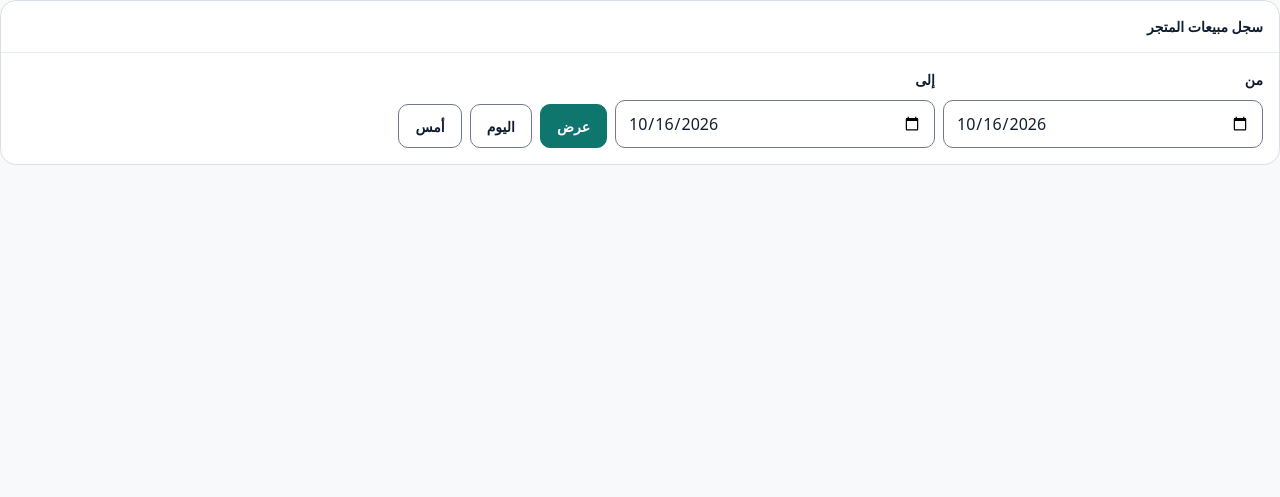
Test: RT-542 SalesHistory — states › lists this device’s unsent sales apart from the server rows
Click the button "عرض": click(574, 126) [540,104,607,148]
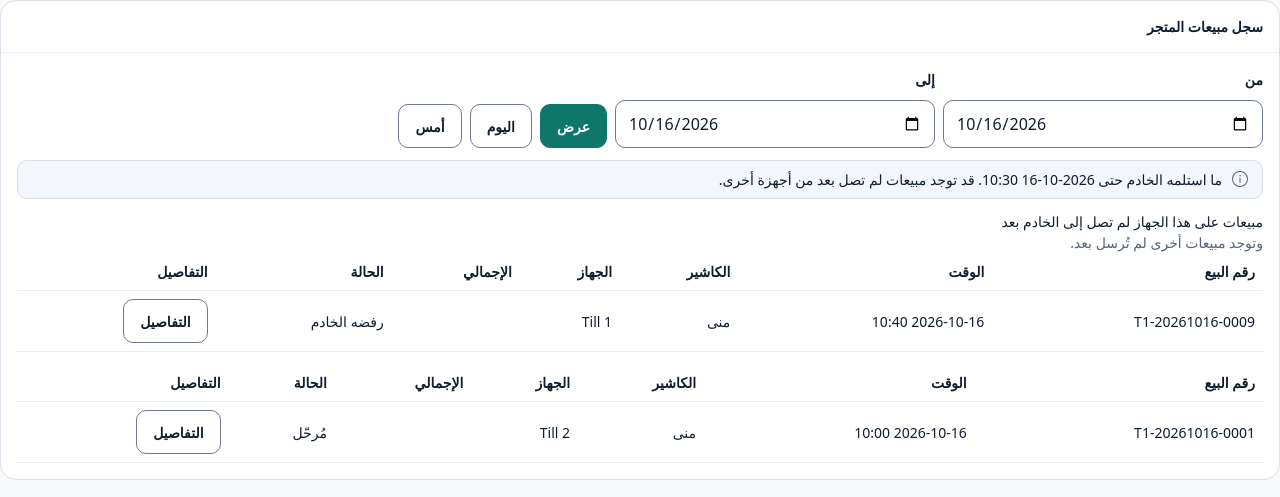
Expected: the element with test id "history-unsynced" shows "مبيعات على هذا الجهاز لم تصل إلى الخادم بعد", [1001,212,1263,231]
Expected: the element with test id "history-unsynced" shows "رفضه الخادم", [311,312,384,330]
Expected: the element with test id "history-unsynced" shows "وتوجد مبيعات أخرى لم تُرسل بعد.", [1070,233,1263,252]
